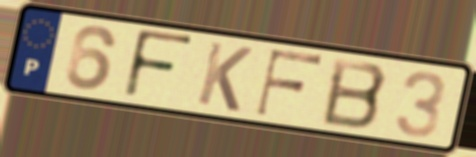3: (394, 69, 448, 139)
6: (64, 24, 121, 93)
B: (318, 55, 391, 132)
F: (120, 26, 197, 103), (252, 47, 326, 119)
K: (193, 39, 255, 115)
